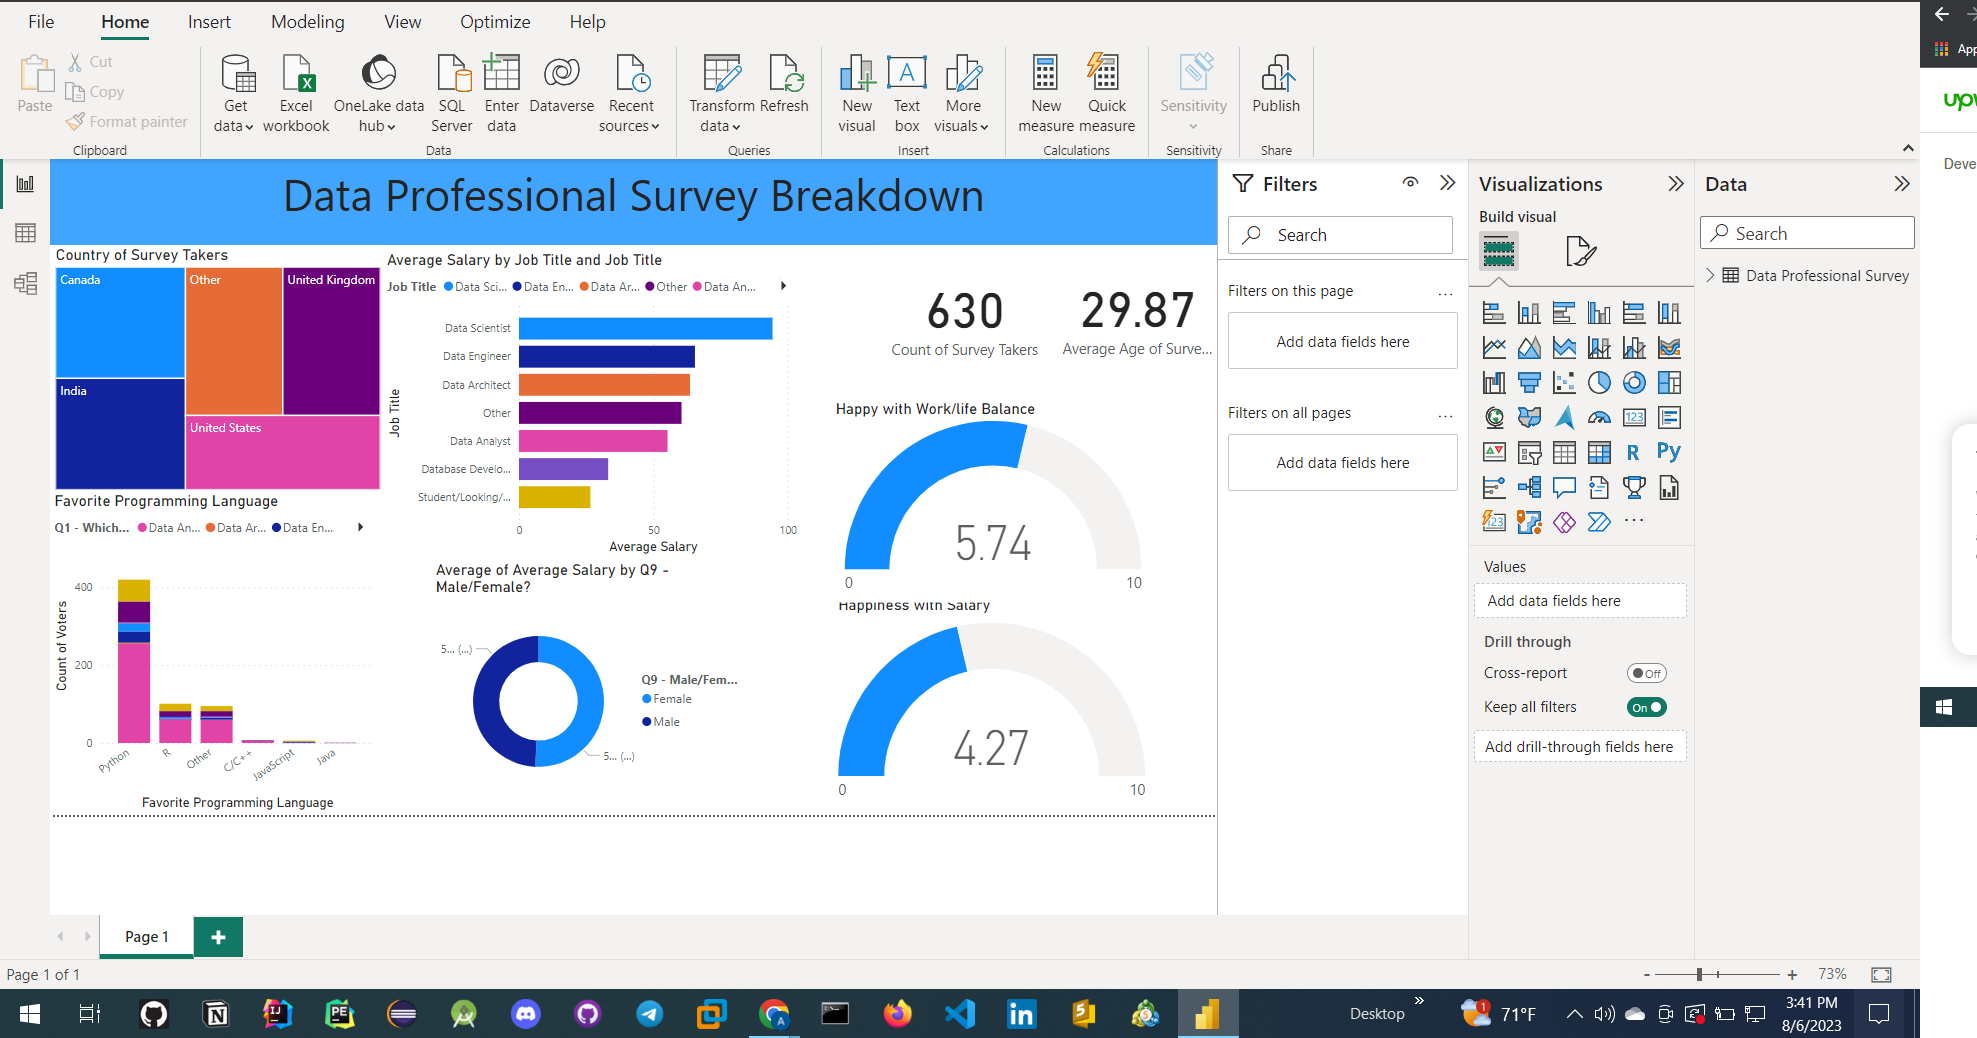

This screenshot's page, from the dashboard's own definition file:
{"tool":"powerbi","page":{"name":"Page 1","canvas":[1280,720],"ordinal":0},"visuals":[{"type":"textbox","box":[0,0,1280.6,94.6],"z":0},{"type":"card","fields":{"Values":["CountNonNull(Data Professional Survey.Unique ID)"]},"box":[902.1,94.6,202.9,151.1],"z":1000},{"type":"card","fields":{"Values":["Avg(Data Professional Survey.Q10 - Current Age)"]},"box":[1104.5,95.2,175.5,149.4],"z":2000},{"type":"barChart","fields":{"Category":["Data Professional Survey.Q1 - Which Title Best Fits your Current Role?.1"],"Y":["Avg(Data Professional Survey.Average Salary)"],"Series":["Data Professional Survey.Q1 - Which Title Best Fits your Current Role?.1"]},"box":[365.2,100.6,459.3,338.6],"z":3000},{"type":"columnChart","title":"Favorite Programming Language","fields":{"Category":["Data Professional Survey.Q5 - Favorite Programming Language.1"],"Y":["CountNonNull(Data Professional Survey.Unique ID)"],"Series":["Data Professional Survey.Q1 - Which Title Best Fits your Current Role?.1"]},"box":[0,365,360.6,354.8],"z":4000},{"type":"treemap","title":"Country of Survey Takers","fields":{"Group":["Data Professional Survey.Q11 - Which Country do you live in?.1"],"Values":["Count(Data Professional Survey.Q11 - Which Country do you live in?.1)"]},"box":[1.4,94.6,366.1,272.8],"z":5000},{"type":"gauge","title":"Happiness with Salary","fields":{"Y":["Avg(Data Professional Survey.Q6 - How Happy are you in your Current Position with the following? (Salary))"],"MinValue":["Min(Data Professional Survey.Q6 - How Happy are you in your Current Position with the following? (Salary))"],"MaxValue":["Max(Data Professional Survey.Q6 - How Happy are you in your Current Position with the following? (Salary))"]},"box":[859.4,478.7,346.9,241.3],"z":6000},{"type":"gauge","title":"Happy with Work/life Balance","fields":{"Y":["Avg(Data Professional Survey.Q6 - How Happy are you in your Current Position with the following? (Work/Life Balance))"],"MinValue":["Min(Data Professional Survey.Q6 - How Happy are you in your Current Position with the following? (Work/Life Balance))"],"MaxValue":["Max(Data Professional Survey.Q6 - How Happy are you in your Current Position with the following? (Work/Life Balance))"]},"box":[856.6,263.2,355.4,223.5],"z":7000},{"type":"donutChart","fields":{"Category":["Data Professional Survey.Q9 - Male/Female?"],"Y":["Avg(Data Professional Survey.Average Salary)"]},"box":[417.6,439.6,345.5,271.5],"z":8000}]}

Visuals, with their boxes on the page's 1280x720 design canvas (x1, y1, x2, y2). These are canvas units, not pixel positions in the 1977x1038 screenshot, which may show the page scaled, cropped or inside an application window:
textbox: <bbox>0, 0, 1281, 95</bbox>
card - CountNonNull(Data Professional Survey.Unique ID): <bbox>902, 95, 1105, 246</bbox>
card - Avg(Data Professional Survey.Q10 - Current Age): <bbox>1104, 95, 1280, 245</bbox>
barChart - Data Professional Survey.Q1 - Which Title Best Fits your Current Role?.1 x Avg(Data Professional Survey.Average Salary): <bbox>365, 101, 824, 439</bbox>
"Favorite Programming Language" columnChart: <bbox>0, 365, 361, 720</bbox>
"Country of Survey Takers" treemap: <bbox>1, 95, 368, 367</bbox>
"Happiness with Salary" gauge: <bbox>859, 479, 1206, 720</bbox>
"Happy with Work/life Balance" gauge: <bbox>857, 263, 1212, 487</bbox>
donutChart - Data Professional Survey.Q9 - Male/Female? x Avg(Data Professional Survey.Average Salary): <bbox>418, 440, 763, 711</bbox>
